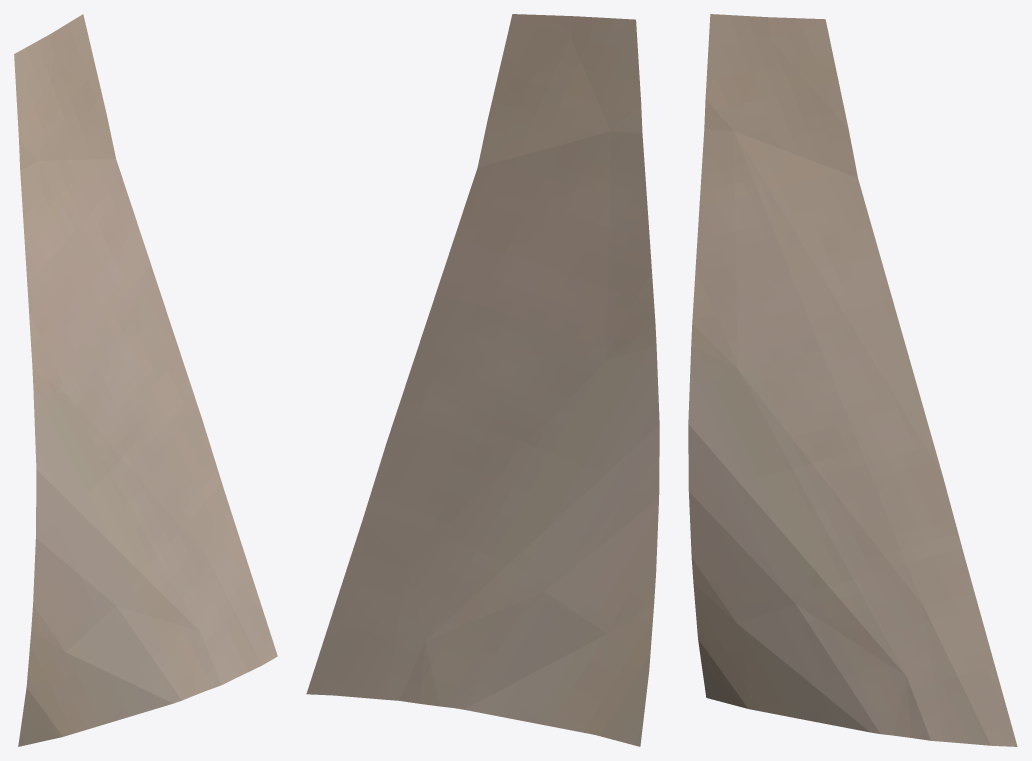
3 renders of one model, left to right at view 1: azimuth 30°, elevation 25°; view 2: azimuth 150°, elevation 25°; view 3: azimuth 330°, elevation 25°, orthographic. The views are drawn at different scales.
Bounding box in the file's own units: 18.7 × 42.87 × 5.19.
Materials: 1 (1 with a texture image).
